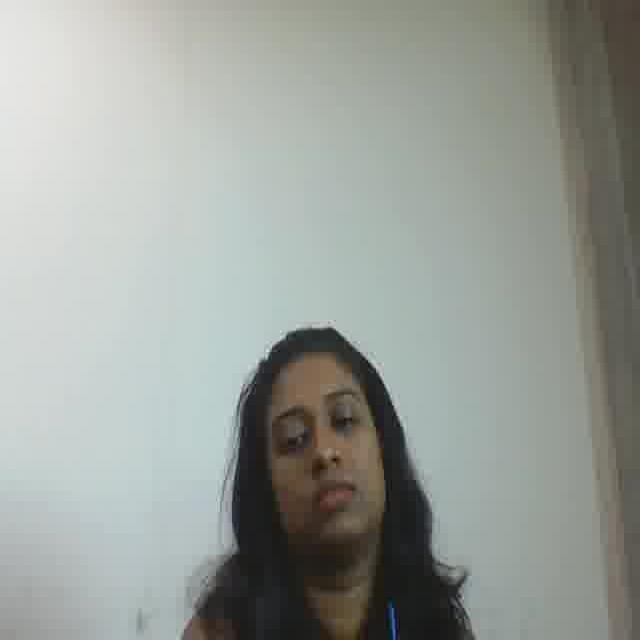Boredom: (260, 360, 377, 536)
